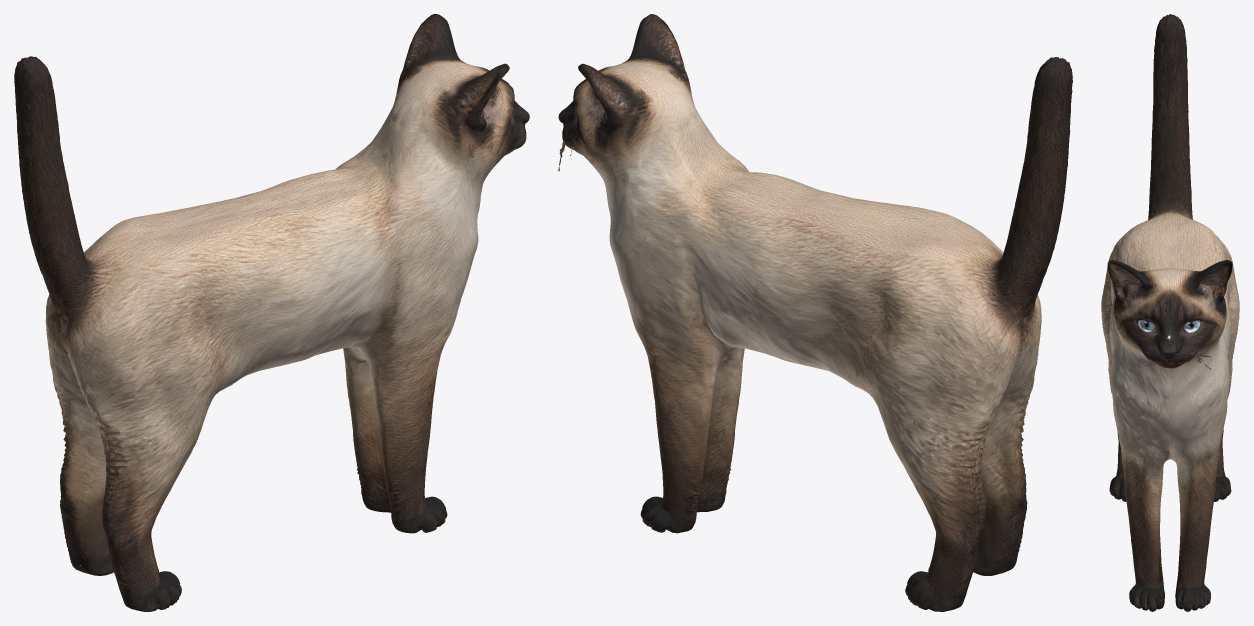
Rendered from LEFTFANG.glb.
3 views of the same model, side by side, from view 1: azimuth 30°, elevation 25°; view 2: azimuth 150°, elevation 25°; view 3: azimuth 270°, elevation 25° (orthographic). The views are drawn at different scales.
Parts seen in each view (by area): view 1: tripo_node_8cb1218d-89d5-43c1-8acc-d07bef95ea62; view 2: tripo_node_8cb1218d-89d5-43c1-8acc-d07bef95ea62; view 3: tripo_node_8cb1218d-89d5-43c1-8acc-d07bef95ea62.
Part boxes in pixels (x1,y1,x2,y2): tripo_node_8cb1218d-89d5-43c1-8acc-d07bef95ea62: (14,14,529,611); tripo_node_8cb1218d-89d5-43c1-8acc-d07bef95ea62: (558,14,1072,611); tripo_node_8cb1218d-89d5-43c1-8acc-d07bef95ea62: (1101,14,1239,611).
Size of the model in its own units: 0.9668 by 1 by 0.2841.
1 material, 1 textured.
